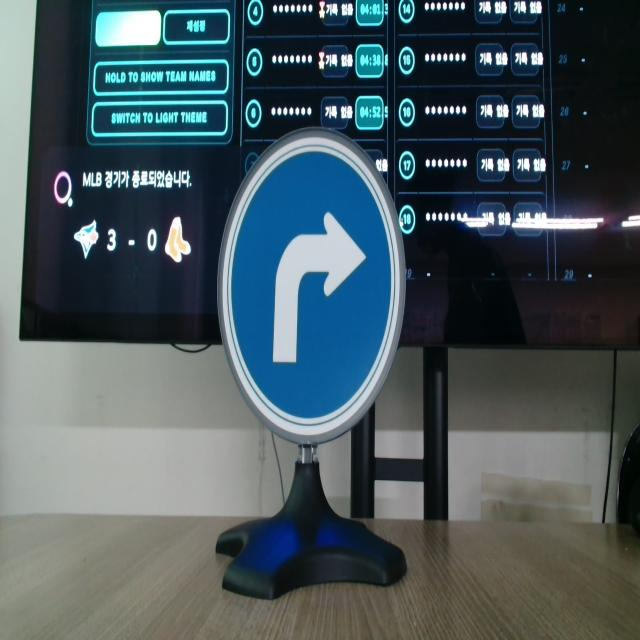right_dierection: (217, 105, 454, 453)
